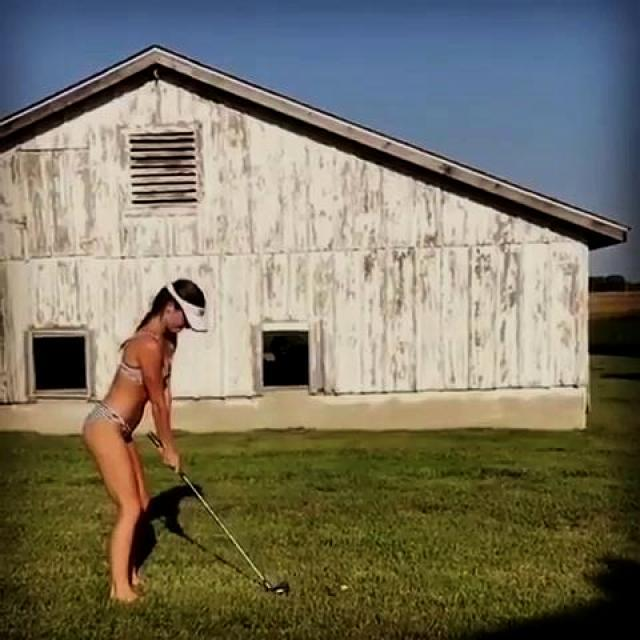ClubHead: (270, 582, 288, 594)
